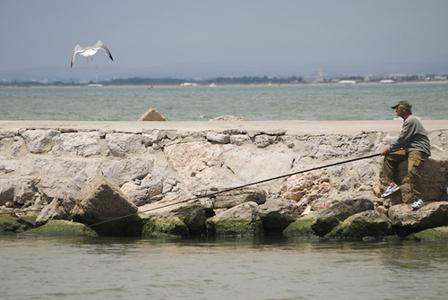person: (381, 101, 433, 210)
